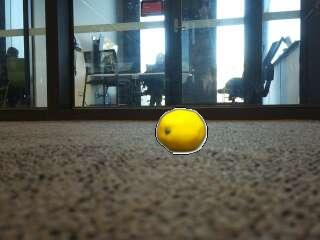lemon: (158, 110, 206, 152)
